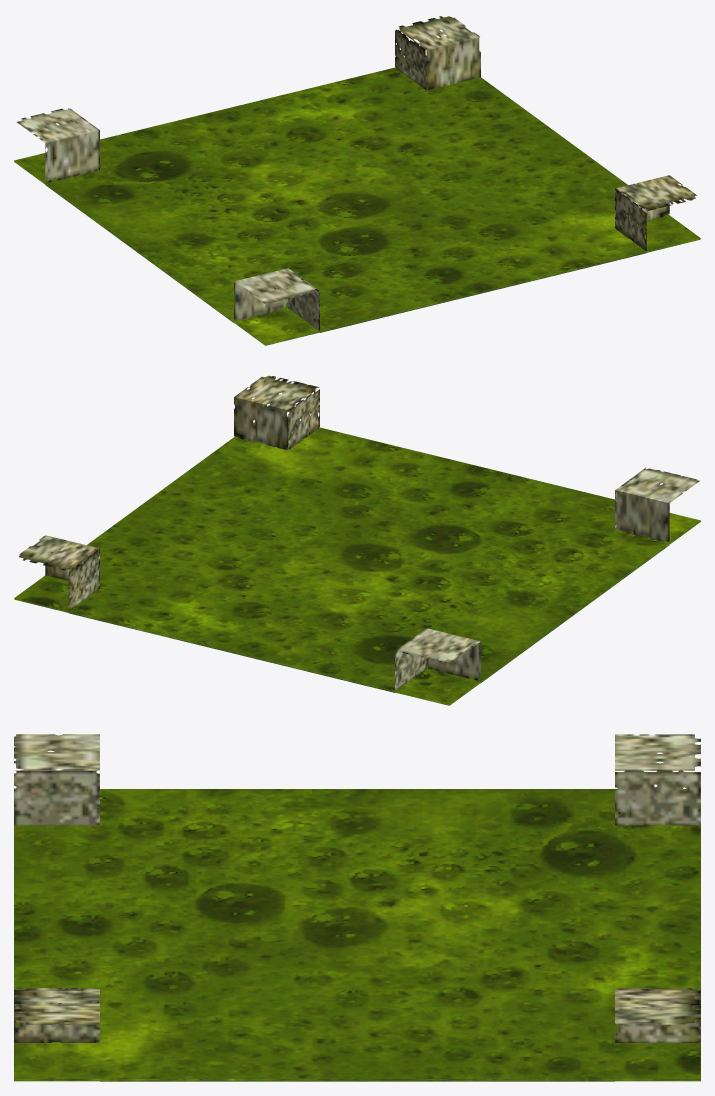
File: sewerFloor4Way.fbx
The picture shows the model from 3 angles, top to bottom: view 1: azimuth 30°, elevation 25°; view 2: azimuth 150°, elevation 25°; view 3: azimuth 270°, elevation 25°; orthographic projection. The views are drawn at different scales.
Visible parts, largest first — view 1: waterPlaneC04, sewerFloor4Way, waterPlaneB04, waterPlaneA04, sewerDeep4Way01; view 2: waterPlaneC04, sewerFloor4Way, waterPlaneB04, waterPlaneA04, sewerDeep4Way01; view 3: waterPlaneC04, sewerFloor4Way, waterPlaneA04, waterPlaneB04.
Part boxes in pixels (x1,y1,x2,y2): waterPlaneC04: (14,60,700,344); sewerFloor4Way: (16,16,696,331); waterPlaneB04: (14,161,700,345); waterPlaneA04: (14,161,700,344); sewerDeep4Way01: (45,185,645,332); waterPlaneC04: (14,422,700,704); sewerFloor4Way: (19,375,699,690); waterPlaneB04: (14,521,700,705); waterPlaneA04: (14,521,700,704); sewerDeep4Way01: (69,545,669,692); waterPlaneC04: (14,789,700,1079); sewerFloor4Way: (14,734,700,1042); waterPlaneA04: (14,1079,700,1080); waterPlaneB04: (14,1080,700,1081).
Size of the model in its own units: 300 by 27.54 by 300.
4 materials, 4 textured.
